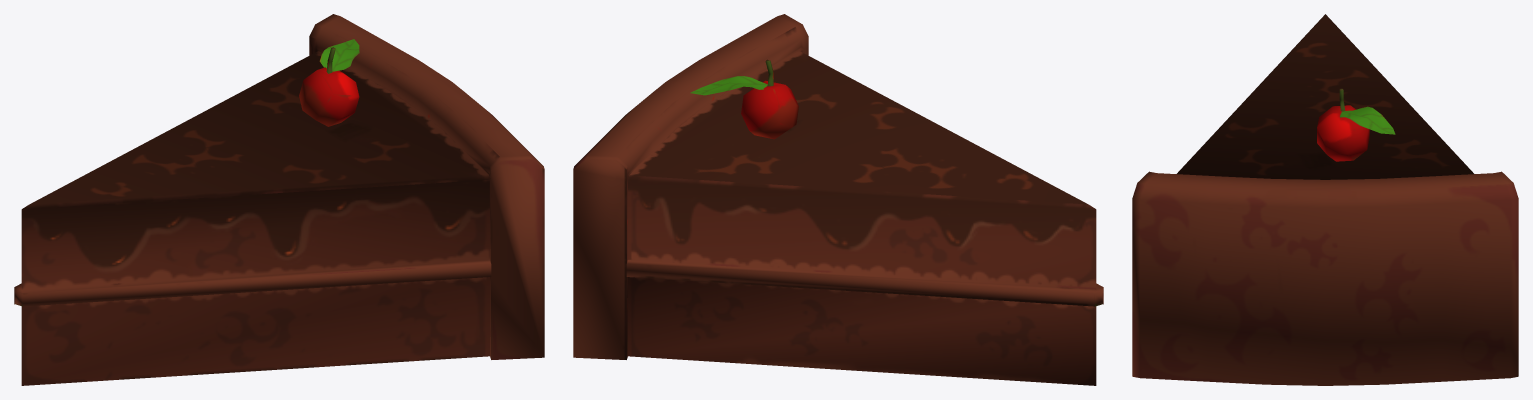
The model's file is chocoCake.fbx.
The picture shows the model from 3 angles, left to right: view 1: azimuth 30°, elevation 25°; view 2: azimuth 150°, elevation 25°; view 3: azimuth 270°, elevation 25°; orthographic projection. The views are drawn at different scales.
Parts seen in each view (by area): view 1: Plane; view 2: Plane; view 3: Plane.
Boxes of the visible parts, x1=… form: Plane: x1=14, y1=14, x2=544, y2=385; Plane: x1=573, y1=14, x2=1103, y2=385; Plane: x1=1132, y1=14, x2=1518, y2=385.
Size of the model in its own units: 171 by 92.26 by 134.
